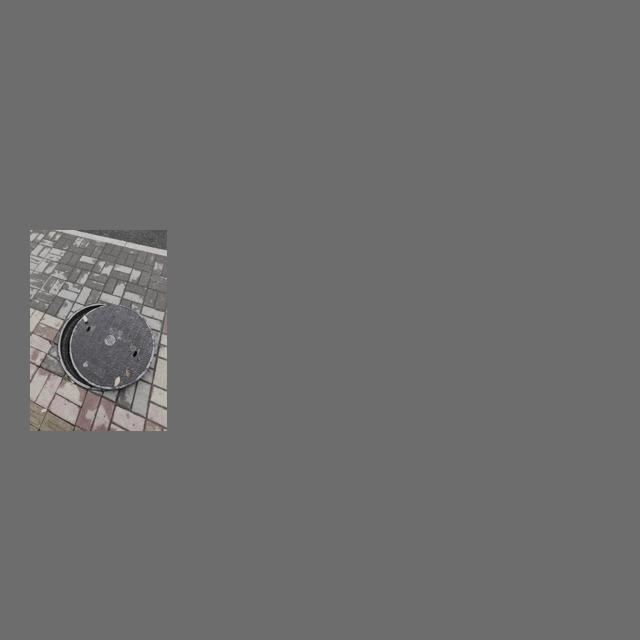uncovered: (58, 303, 155, 390)
